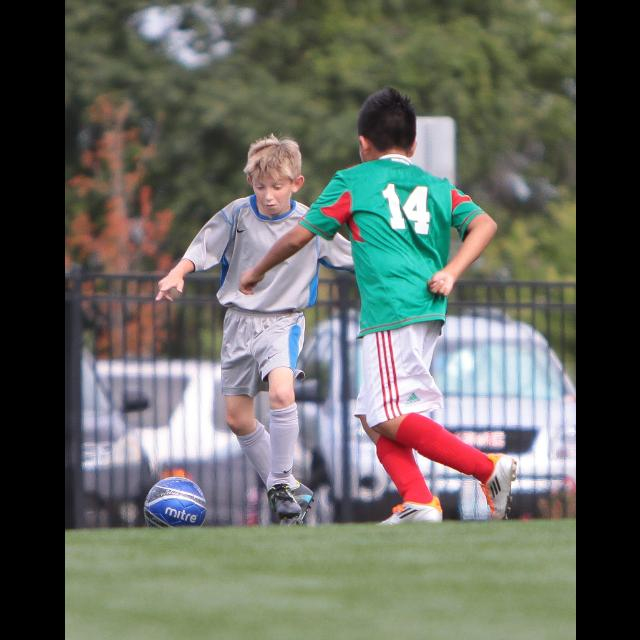Football: (146, 476, 206, 524)
